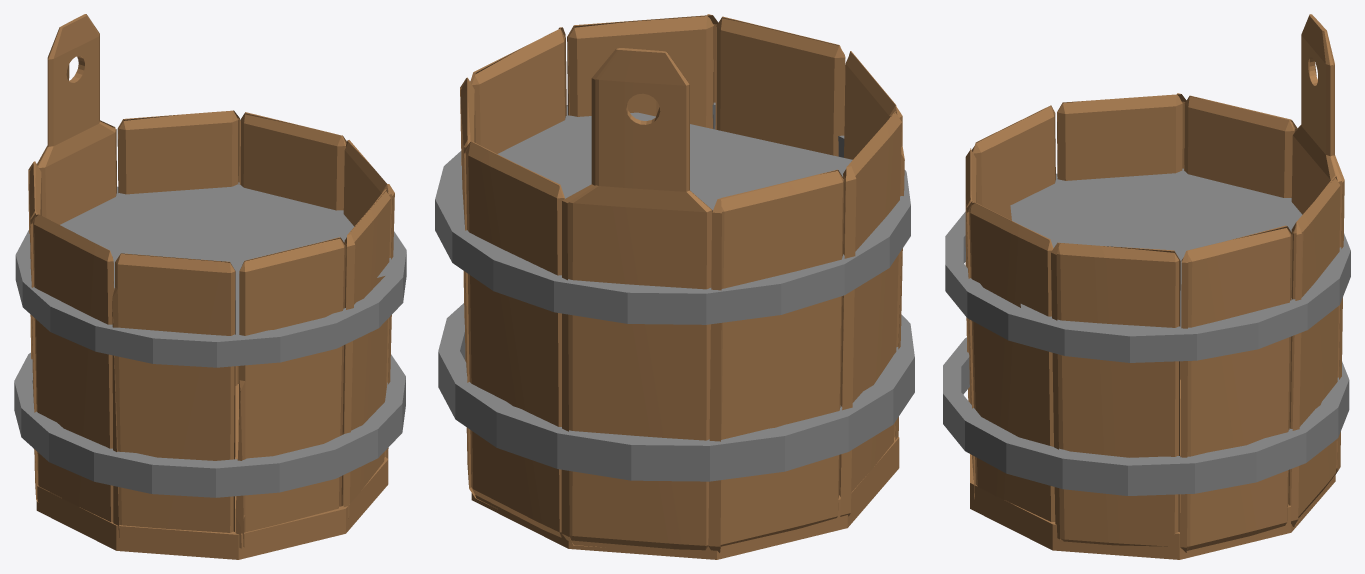
The model's file is Bucket1.fbx.
The picture shows the model from 3 angles, left to right: view 1: azimuth 30°, elevation 25°; view 2: azimuth 150°, elevation 25°; view 3: azimuth 270°, elevation 25°; orthographic projection. The views are drawn at different scales.
Visible parts, largest first — view 1: Bucket bottom; view 2: Bucket bottom; view 3: Bucket bottom.
Boxes of the visible parts, <box> form: Bucket bottom: <box>14,14,406,559</box>; Bucket bottom: <box>435,14,914,559</box>; Bucket bottom: <box>943,14,1350,559</box>.
Bounding box in the file's own units: 124 × 144 × 123.
